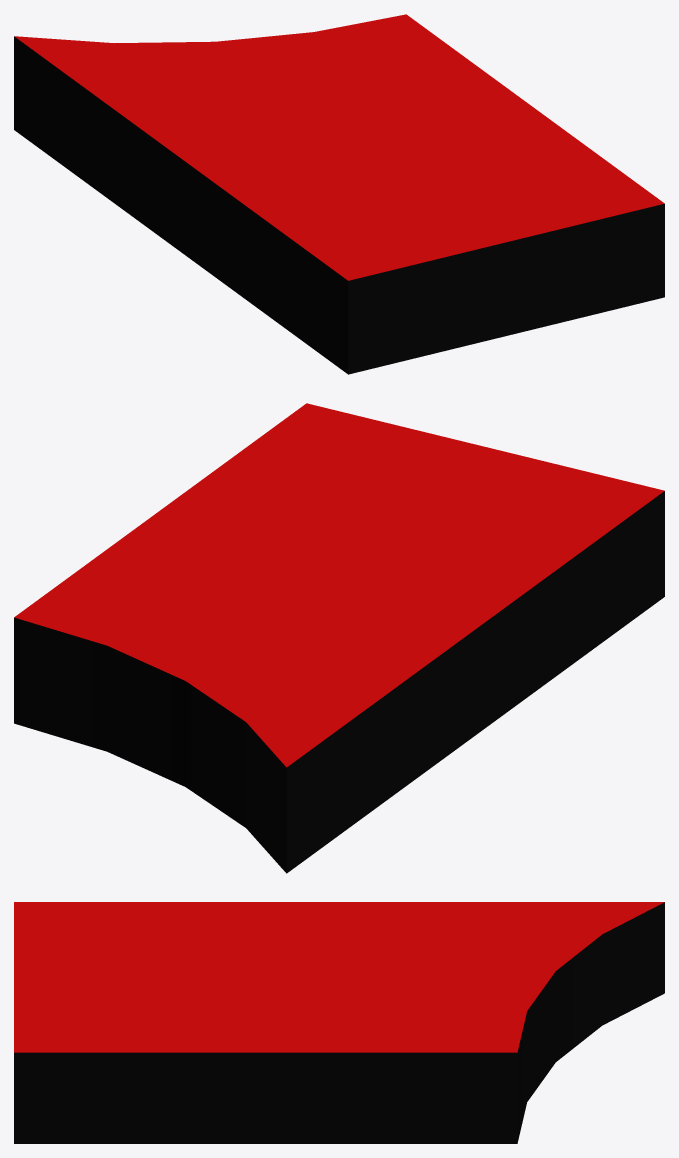
Rendered from PlatformCornerFill_45Deg.fbx.
3 renders of one model, top to bottom at view 1: azimuth 30°, elevation 25°; view 2: azimuth 150°, elevation 25°; view 3: azimuth 270°, elevation 25°, orthographic. The views are drawn at different scales.
Parts seen in each view (by area): view 1: PlatformCornerFill_45Deg; view 2: PlatformCornerFill_45Deg; view 3: PlatformCornerFill_45Deg.
Boxes of the visible parts, x1,y1,x2,y2 form: PlatformCornerFill_45Deg: [14, 14, 664, 374]; PlatformCornerFill_45Deg: [14, 403, 664, 873]; PlatformCornerFill_45Deg: [14, 902, 664, 1143].
Size of the model in its own units: 3.54 by 1 by 6.46.
